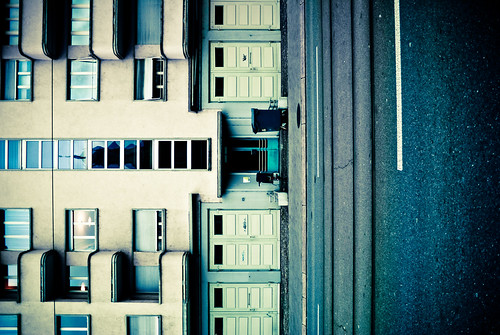building: (1, 4, 284, 333)
street: (307, 1, 500, 333)
